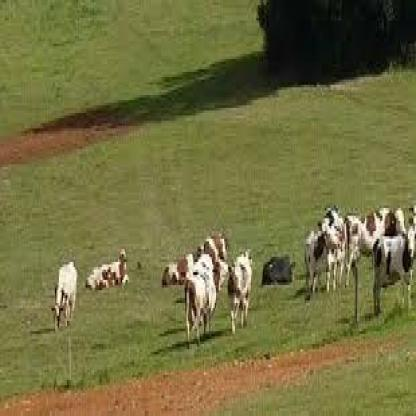cow: (346, 209, 405, 286), (373, 228, 416, 316), (185, 254, 218, 349), (318, 206, 346, 283), (308, 227, 340, 294), (228, 252, 252, 331), (51, 259, 76, 334), (262, 253, 296, 286), (162, 252, 192, 288), (107, 248, 130, 289), (198, 232, 231, 260), (86, 262, 113, 293), (212, 257, 228, 293)
